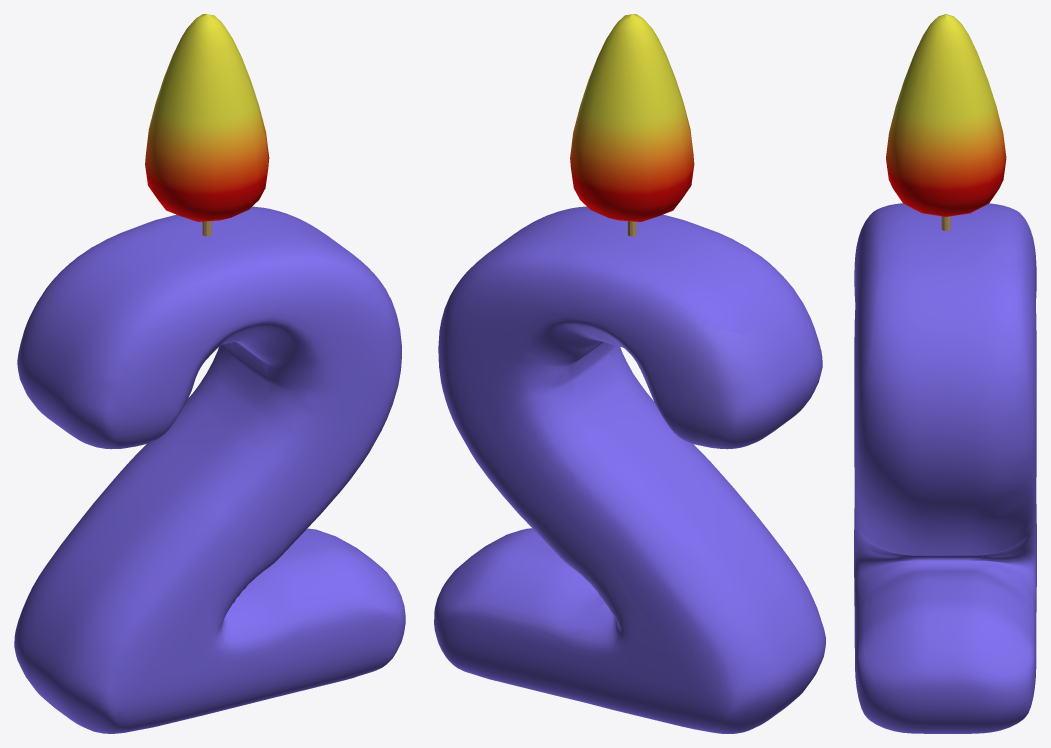
Rendered from candle_2.glb.
3 renders of one model, left to right at view 1: azimuth 30°, elevation 25°; view 2: azimuth 150°, elevation 25°; view 3: azimuth 270°, elevation 25°, orthographic. The views are drawn at different scales.
Parts seen in each view (by area): view 1: candle_2, fire.002; view 2: candle_2, fire.002; view 3: candle_2, fire.002.
Part boxes in pixels (<box>): candle_2: <box>14,206,405,733</box>; fire.002: <box>145,14,269,221</box>; candle_2: <box>434,206,825,733</box>; fire.002: <box>570,14,694,221</box>; candle_2: <box>854,203,1036,733</box>; fire.002: <box>886,14,1006,216</box>.
Bounding box in the file's own units: 0.5019 × 0.9407 × 0.2377.
1 material, 1 textured.
